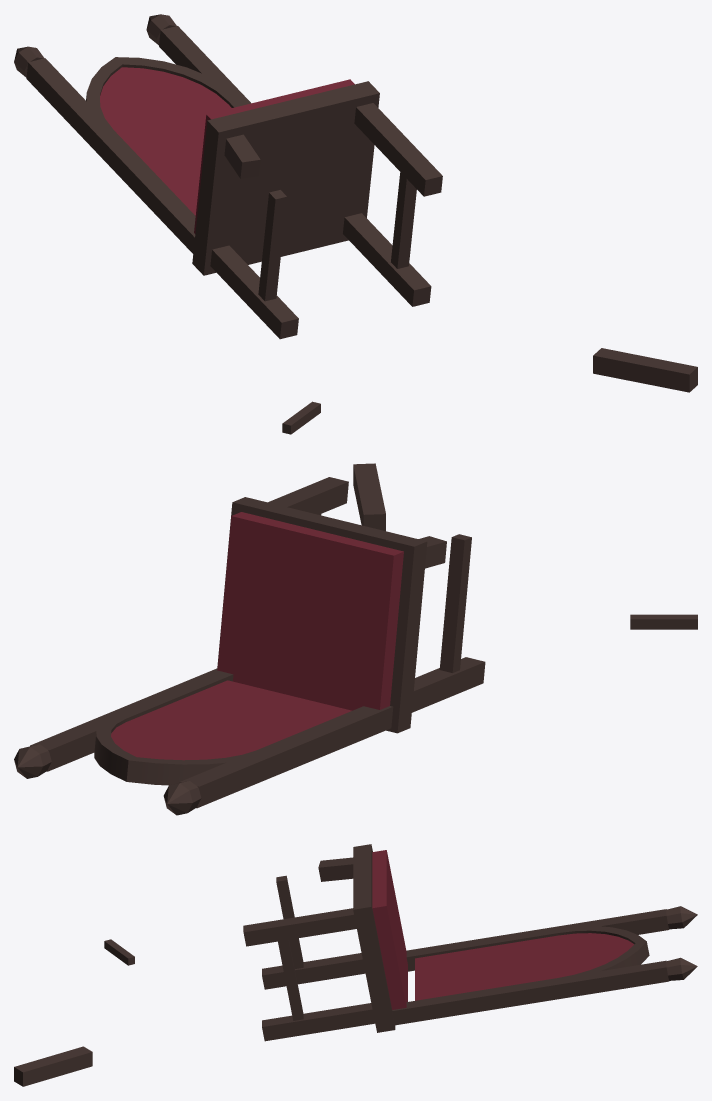
Rendered from broken_chair.glb.
3 renders of one model, top to bottom at view 1: azimuth 30°, elevation 25°; view 2: azimuth 150°, elevation 25°; view 3: azimuth 270°, elevation 25°, orthographic. The views are drawn at different scales.
Visible parts, largest first — view 1: BrokenChair; view 2: BrokenChair; view 3: BrokenChair.
Part boxes in pixels (<box>): BrokenChair: <box>14,14,697,434</box>; BrokenChair: <box>14,463,697,815</box>; BrokenChair: <box>14,844,697,1086</box>.
Bounding box in the file's own units: 1.25 × 0.5685 × 2.58.
